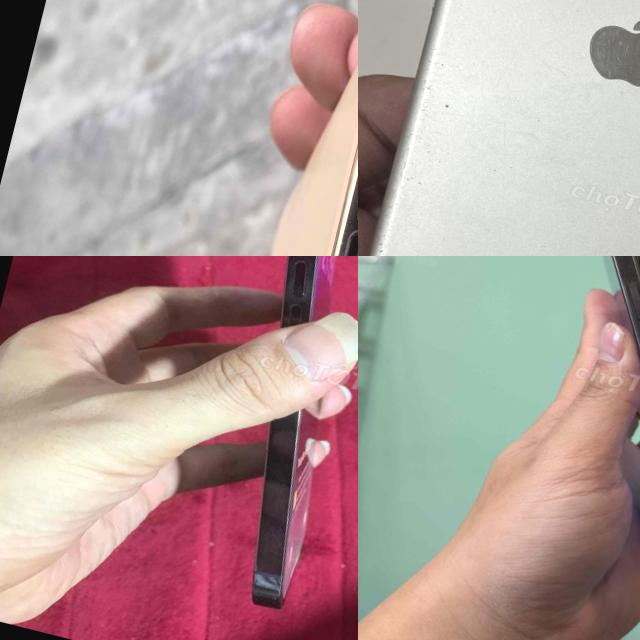gen_11: (182, 0, 358, 256)
gen_14: (173, 256, 358, 635)
gen_6: (368, 0, 640, 256)
